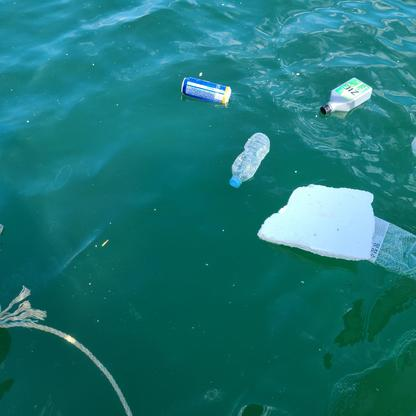can: (180, 75, 231, 102)
foam: (257, 183, 375, 262)
plastic bottle: (229, 132, 271, 188), (319, 77, 373, 114)
